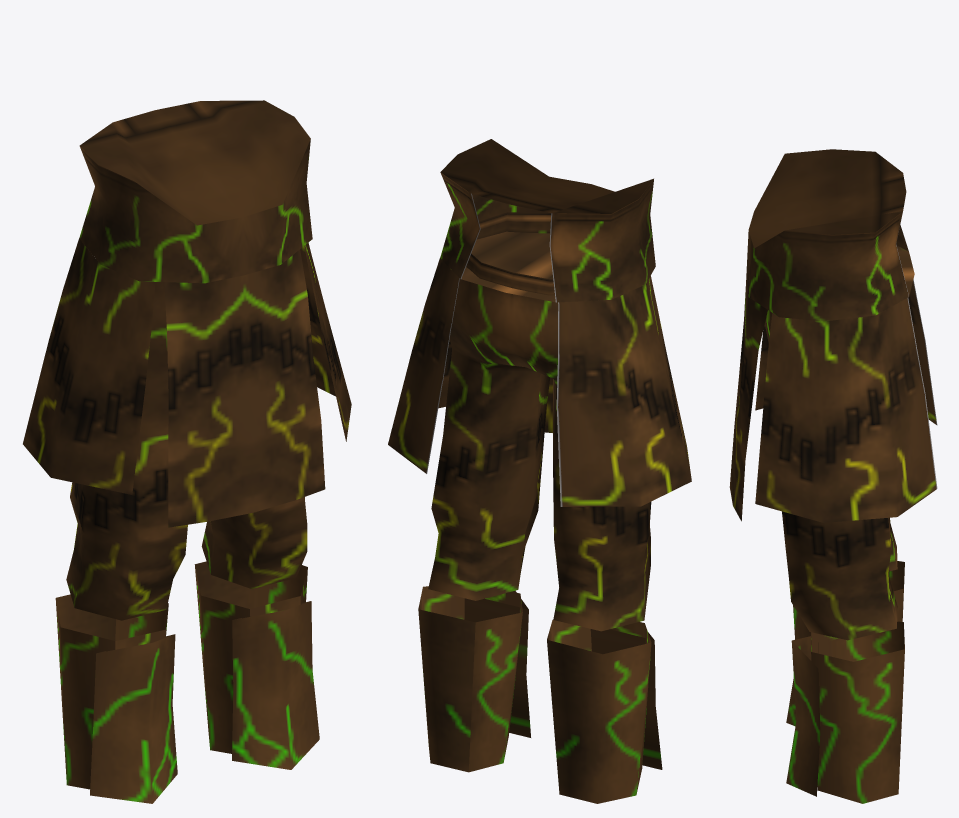
File: hum_light_g_76a98e70.glb
3 views of the same model, side by side, from view 1: azimuth 30°, elevation 25°; view 2: azimuth 150°, elevation 25°; view 3: azimuth 270°, elevation 25° (orthographic). The views are drawn at different scales.
Bounding box in the file's own units: 0.7696 × 1.83 × 0.5304.
Materials: 1 (1 with a texture image).
